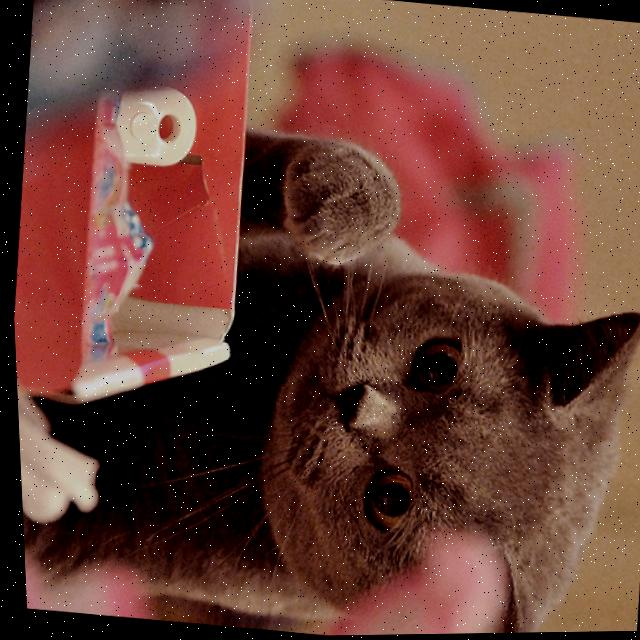British Shorthair: (4, 100, 640, 640)
